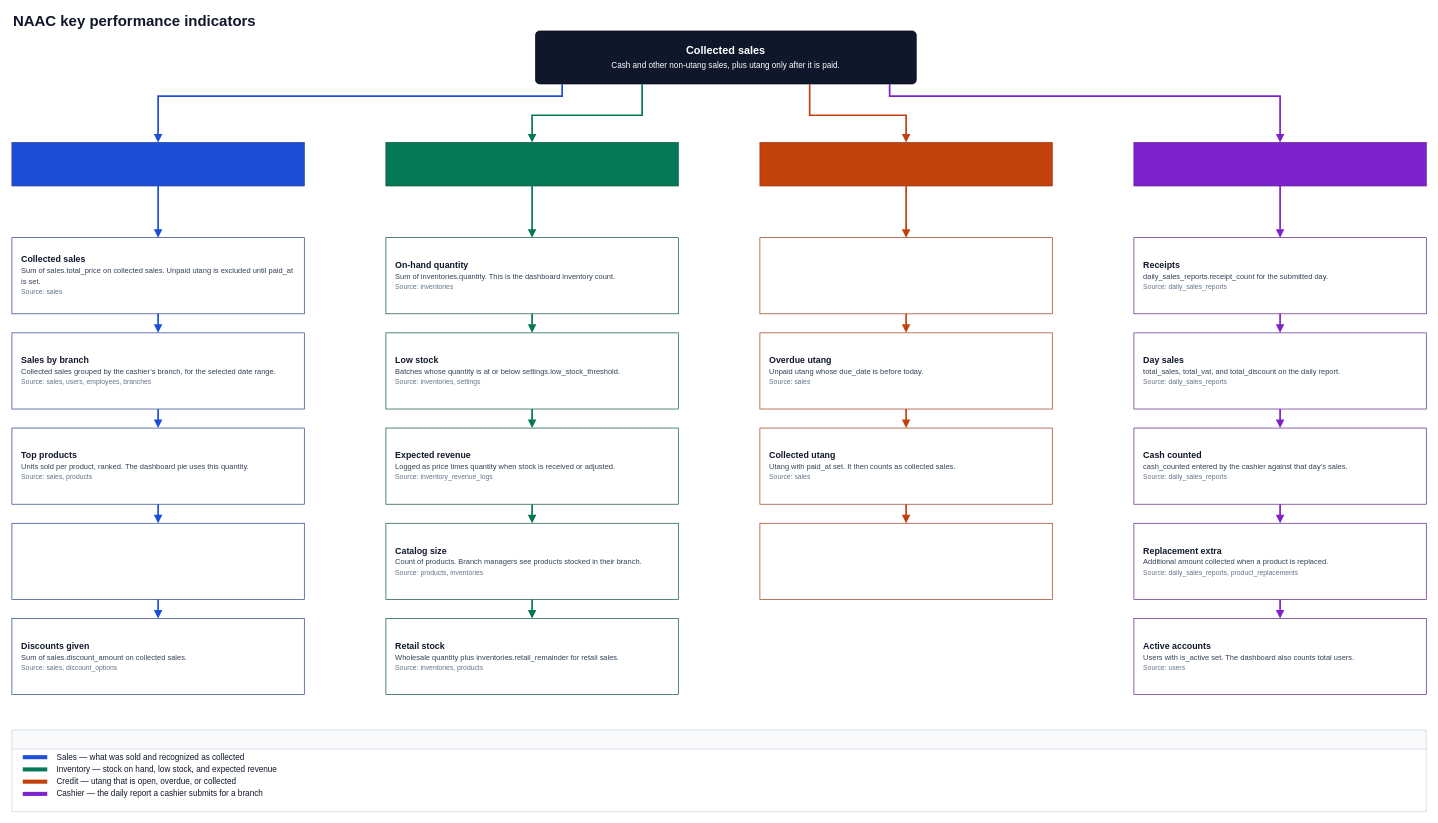
Some shapes in this 1438 by 823 pixel diagram are drawn without their labels. Each missing label, with the box of its shape:
Cashier control: (1133, 142, 1426, 186)
Credit and collections: (759, 142, 1052, 186)
How to read this: (11, 729, 1426, 812)
Inventory health: (385, 142, 678, 186)
Sales performance: (11, 142, 304, 186)
Unpaid utang payment_method is utang and paid_at is empty. Source: sales: (759, 237, 1052, 314)
Utang exposure Sum of total_price on unpaid utang tickets. Source: sales: (759, 523, 1052, 599)
VAT collected Sum of sales.vat_amount on collected sales. Source: sales: (11, 523, 304, 599)
